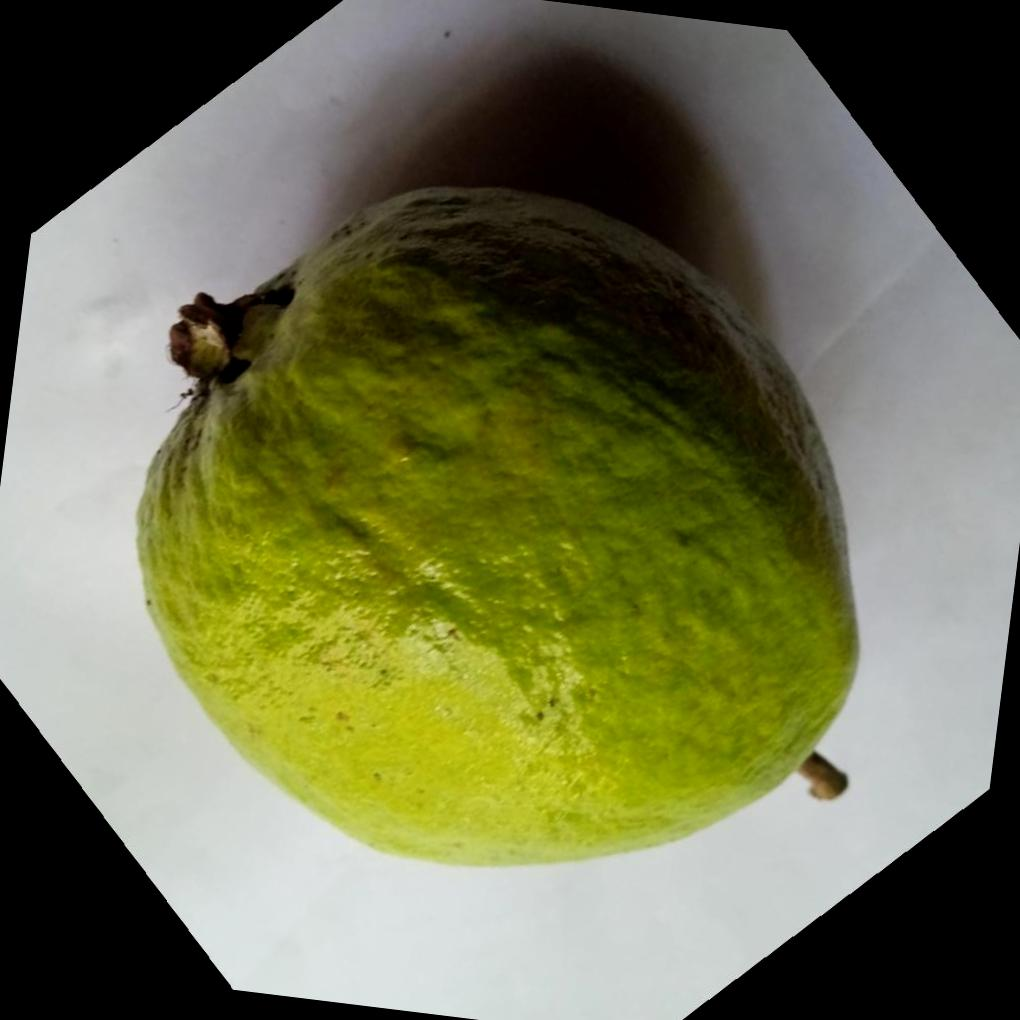FreshGuava: (131, 181, 858, 869)
